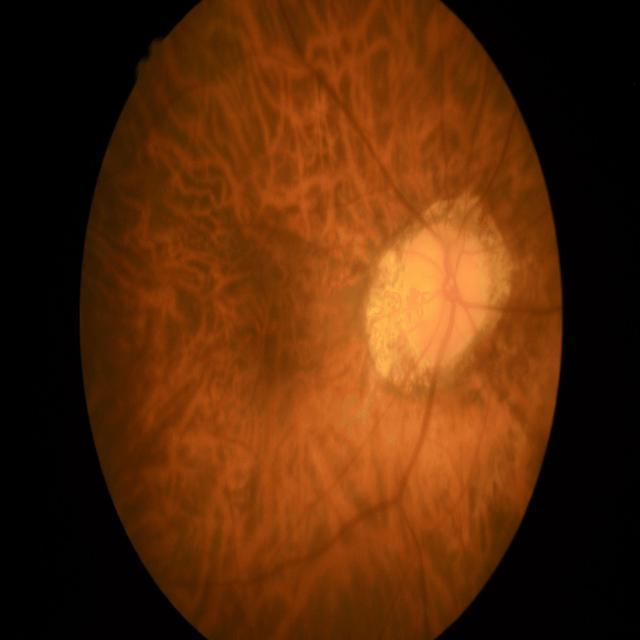cup: (416, 248, 464, 342)
disk: (400, 224, 490, 366)
